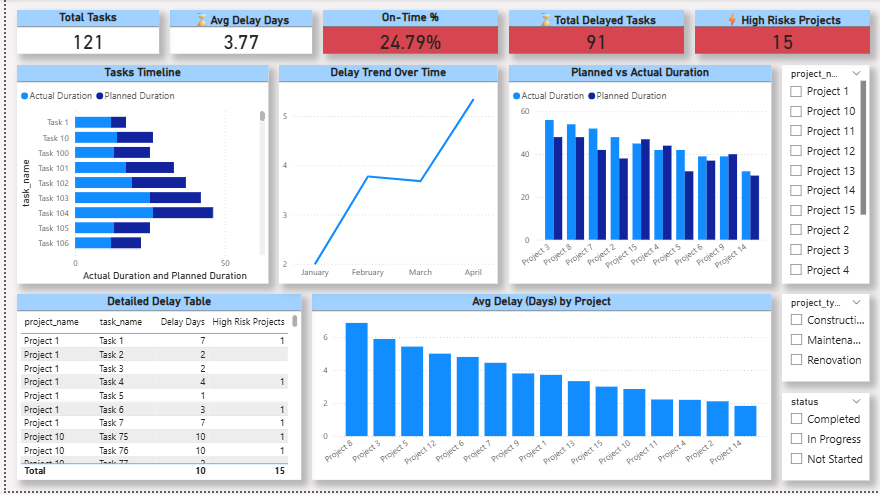

Layout of this report page (visuals, bound fields, positions):
{"tool":"powerbi","page":{"name":"Project Timeline & Delay Analysis","canvas":[1280,720],"ordinal":3},"visuals":[{"type":"card","title":"⌛Avg Delay Days","fields":{"Values":["performance_and_resource_planning tasks.Average Delay Days"]},"box":[240,16,208,64],"z":0},{"type":"card","title":"On-Time %","fields":{"Values":["performance_and_resource_planning tasks.On-Time %"]},"box":[464,16,256,64],"z":1000},{"type":"card","title":"⌛Total Delayed Tasks","fields":{"Values":["performance_and_resource_planning tasks.Total Delayed Tasks"]},"box":[736,16,256,64],"z":2000},{"type":"card","title":"Total Active Tasks","fields":{"Values":["performance_and_resource_planning tasks.Total Tasks"]},"box":[16,16,208,64],"z":3000},{"type":"clusteredBarChart","title":"Tasks Timeline","fields":{"Category":["performance_and_resource_planning tasks.task_name"],"Y":["performance_and_resource_planning tasks.Actual Duration","performance_and_resource_planning tasks.Planned Duration"]},"box":[16,96,416,320],"z":4000},{"type":"clusteredColumnChart","title":"Planned vs Actual Duration","fields":{"Category":["performance_and_resource_planning projects.project_name"],"Y":["performance_and_resource_planning tasks.Actual Duration","performance_and_resource_planning tasks.Planned Duration"]},"box":[736,96,384,320],"z":5000},{"type":"clusteredColumnChart","title":"Avg Delay (Days) per Project","fields":{"Category":["performance_and_resource_planning projects.project_name"],"Y":["performance_and_resource_planning projects.Avg Delay Days"]},"box":[448,432,672,272],"z":6000},{"type":"tableEx","title":"Detailed Delay Table","fields":{"Values":["performance_and_resource_planning projects.project_name","performance_and_resource_planning tasks.task_name","performance_and_resource_planning tasks.Delay Days","performance_and_resource_planning tasks.High Risk Projects"]},"box":[16,432,432,272],"z":7000},{"type":"slicer","fields":{"Values":["performance_and_resource_planning projects.project_name"]},"box":[1136,96,128,320],"z":8000},{"type":"slicer","fields":{"Values":["performance_and_resource_planning projects.project_type"]},"box":[1136,432,128,128],"z":9000},{"type":"slicer","fields":{"Values":["performance_and_resource_planning projects.status"]},"box":[1136,576,128,128],"z":10000},{"type":"lineChart","title":"Delay Trend Over Time","fields":{"Category":["performance_and_resource_planning tasks.actual_end.Variation.Date Hierarchy.Month","performance_and_resource_planning tasks.actual_end.Variation.Date Hierarchy.Day"],"Y":["performance_and_resource_planning tasks.Average Delay Days"]},"box":[448,96,272,320],"z":11000},{"type":"card","title":"⚡High Risks Projects","fields":{"Values":["performance_and_resource_planning tasks.High Risk Projects"]},"box":[1008,16,256,64],"z":12000}]}

Visuals, with their boxes in screenshot pixels (x1, y1, x2, y2), scaled from the page's 1280x720 canvas onto the 880x495 screenshot:
"⌛Avg Delay Days" card: <bbox>165, 11, 308, 55</bbox>
"On-Time %" card: <bbox>319, 11, 495, 55</bbox>
"⌛Total Delayed Tasks" card: <bbox>506, 11, 682, 55</bbox>
"Total Active Tasks" card: <bbox>11, 11, 154, 55</bbox>
"Tasks Timeline" clusteredBarChart: <bbox>11, 66, 297, 286</bbox>
"Planned vs Actual Duration" clusteredColumnChart: <bbox>506, 66, 770, 286</bbox>
"Avg Delay (Days) per Project" clusteredColumnChart: <bbox>308, 297, 770, 484</bbox>
"Detailed Delay Table" tableEx: <bbox>11, 297, 308, 484</bbox>
slicer - performance_and_resource_planning projects.project_name: <bbox>781, 66, 869, 286</bbox>
slicer - performance_and_resource_planning projects.project_type: <bbox>781, 297, 869, 385</bbox>
slicer - performance_and_resource_planning projects.status: <bbox>781, 396, 869, 484</bbox>
"Delay Trend Over Time" lineChart: <bbox>308, 66, 495, 286</bbox>
"⚡High Risks Projects" card: <bbox>693, 11, 869, 55</bbox>
